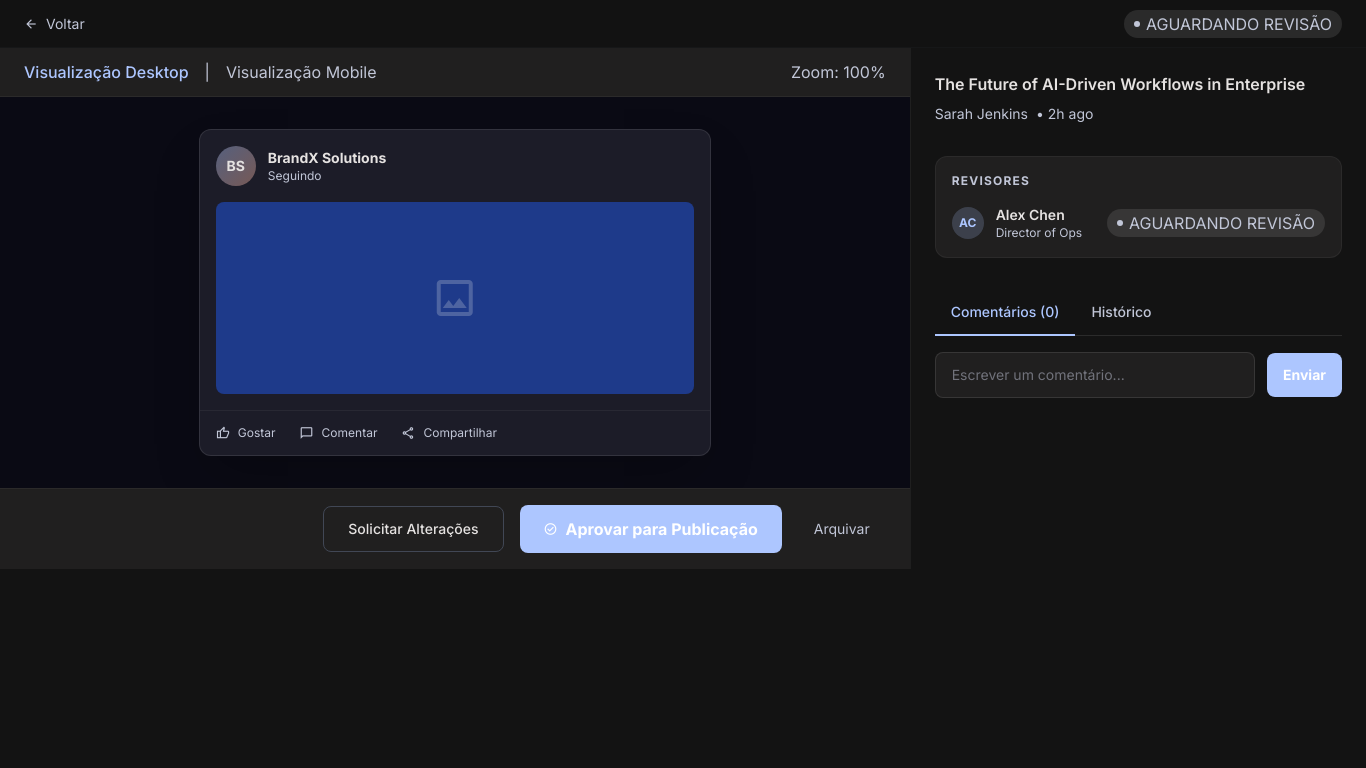
Test: ApprovalDetailPage › opens request changes modal when button is clicked
Click the button "Solicitar Alterações" at (413, 529), box left=323, top=506, right=504, bottom=552
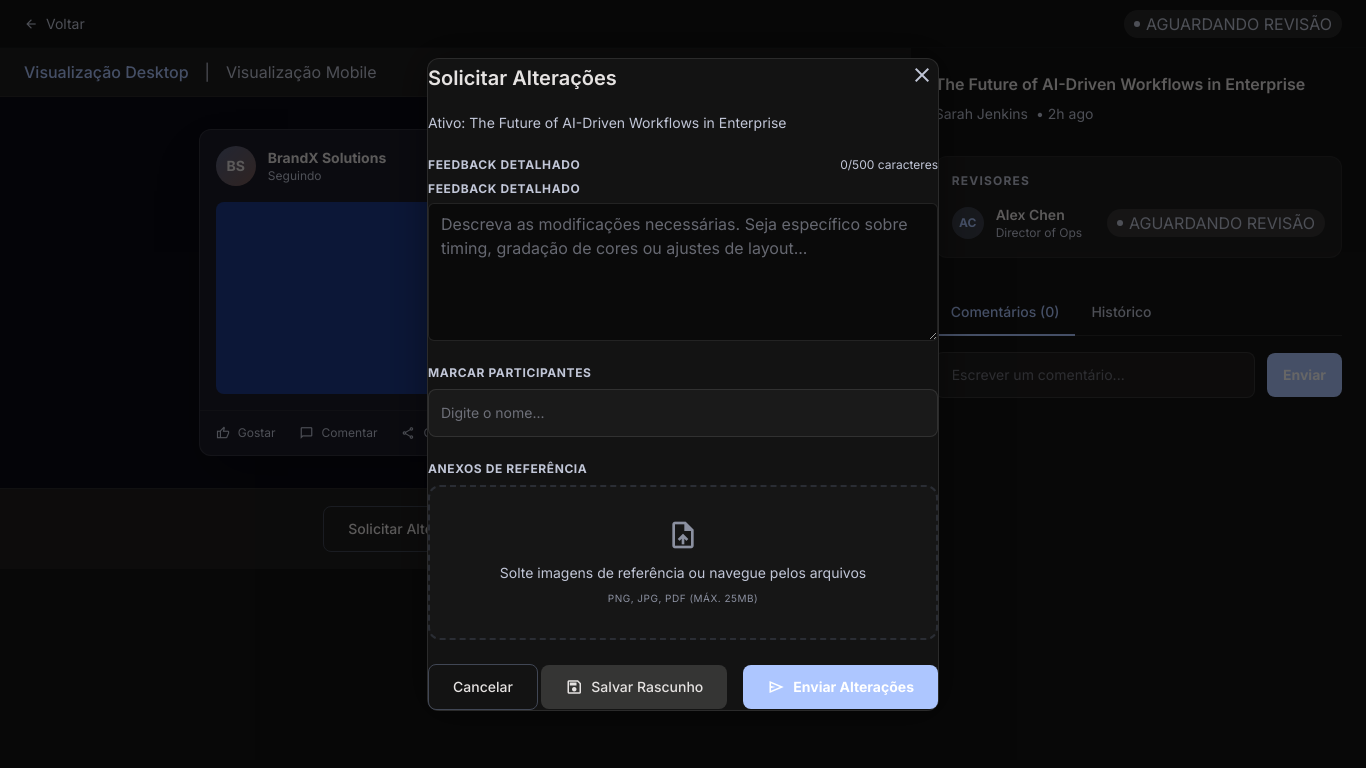
Expected: the dialog is shown, left=427, top=58, right=939, bottom=710
